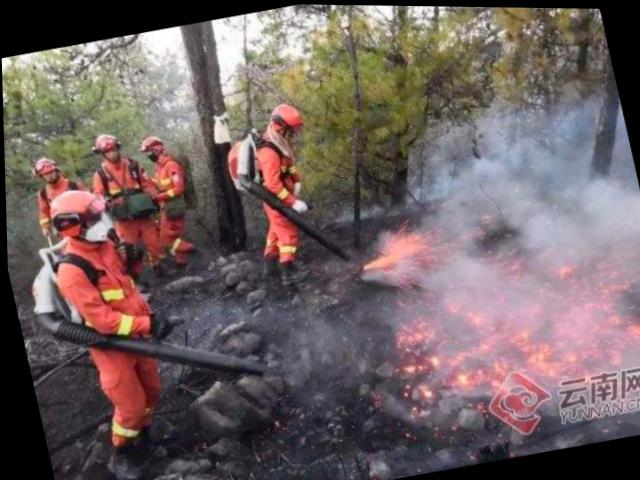fire: (348, 174, 639, 452)
